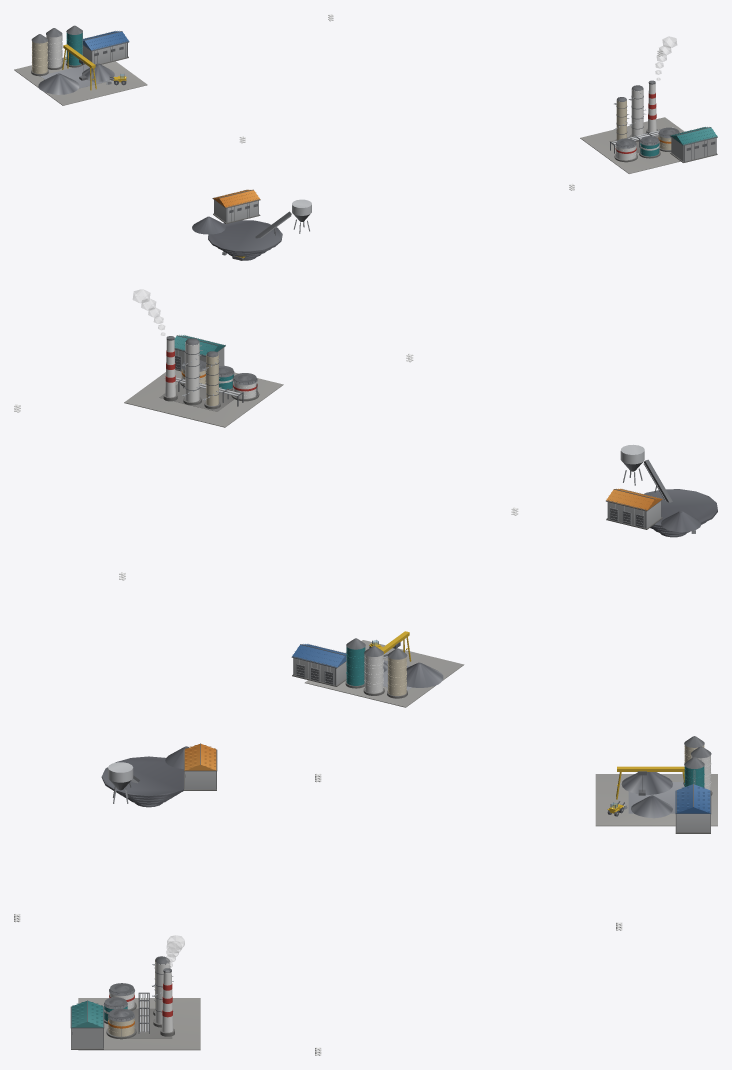
Rendered from Sites_P3.fbx.
3 views of the same model, one above another, from view 1: azimuth 30°, elevation 25°; view 2: azimuth 150°, elevation 25°; view 3: azimuth 270°, elevation 25° (orthographic). The views are drawn at different scales.
Visible parts, largest first — view 1: Site.Store.Yard, Site.Quarry.Benches, Site.Plant.Pad, Site.Plant.Hall, Site.Quarry.Shed, Site.Store.Shed, Site.Plant.Col1, Site.Store.Silo0, Site.Store.Pile0, Site.Store.Silo1, Site.Store.Silo2, Site.Plant.Col0 (+6 smaller); view 2: Site.Plant.Pad, Site.Store.Yard, Site.Store.Shed, Site.Quarry.Shed, Site.Quarry.Benches, Site.Plant.Col1, Site.Store.Silo0, Site.Store.Silo1, Site.Store.Silo2, Site.Plant.Hall, Site.Plant.Col0, Site.Store.Pile0 (+2 smaller); view 3: Site.Plant.Pad, Site.Store.Yard, Site.Quarry.Benches, Site.Store.Shed, Site.Plant.Hall, Site.Quarry.Shed, Site.Store.Pile0, Site.Plant.Tank2, Site.Plant.Stack, Site.Store.Pile1, Site.Plant.Col1, Site.Quarry.Hopper (+2 smaller).
Boxes of the visible parts, x1,y1,x2,y2 form: Site.Store.Yard: (14,57,147,105); Site.Quarry.Benches: (208,220,282,260); Site.Plant.Pad: (580,117,684,173); Site.Plant.Hall: (670,127,717,162); Site.Quarry.Shed: (212,189,260,223); Site.Store.Shed: (83,31,129,64); Site.Plant.Col1: (628,85,645,141); Site.Store.Silo0: (31,34,48,76); Site.Store.Pile0: (38,73,79,94); Site.Store.Silo1: (46,28,62,69); Site.Store.Silo2: (66,25,82,67); Site.Plant.Col0: (614,97,629,142); Site.Plant.Pad: (124,370,283,427); Site.Store.Yard: (305,640,464,707); Site.Store.Shed: (291,644,346,686); Site.Quarry.Shed: (606,488,662,529); Site.Quarry.Benches: (643,489,717,537); Site.Plant.Col1: (182,338,202,405); Site.Store.Silo0: (387,648,407,698); Site.Store.Silo1: (363,646,384,695); Site.Store.Silo2: (345,638,365,688); Site.Plant.Hall: (174,335,225,371); Site.Plant.Col0: (203,351,221,409); Site.Store.Pile0: (406,662,443,687); Site.Plant.Pad: (78,998,200,1050); Site.Store.Yard: (595,774,717,826); Site.Quarry.Benches: (101,756,183,807); Site.Store.Shed: (675,784,711,833); Site.Plant.Hall: (70,1000,104,1049); Site.Quarry.Shed: (183,743,217,790); Site.Store.Pile0: (621,772,672,794); Site.Plant.Tank2: (106,1008,136,1039); Site.Plant.Stack: (160,968,174,1036); Site.Store.Pile1: (631,795,672,818); Site.Plant.Col1: (152,957,173,1027); Site.Quarry.Hopper: (108,762,133,803).
Size of the model in its own units: 31948 by 6153 by 29934.
